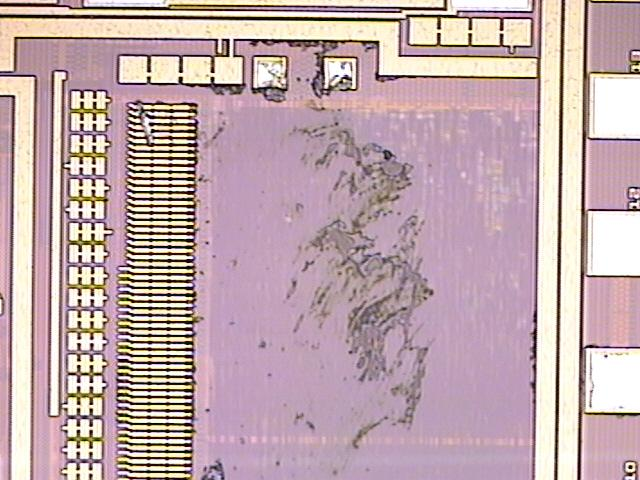SCRATCH: (132, 35, 444, 480)
